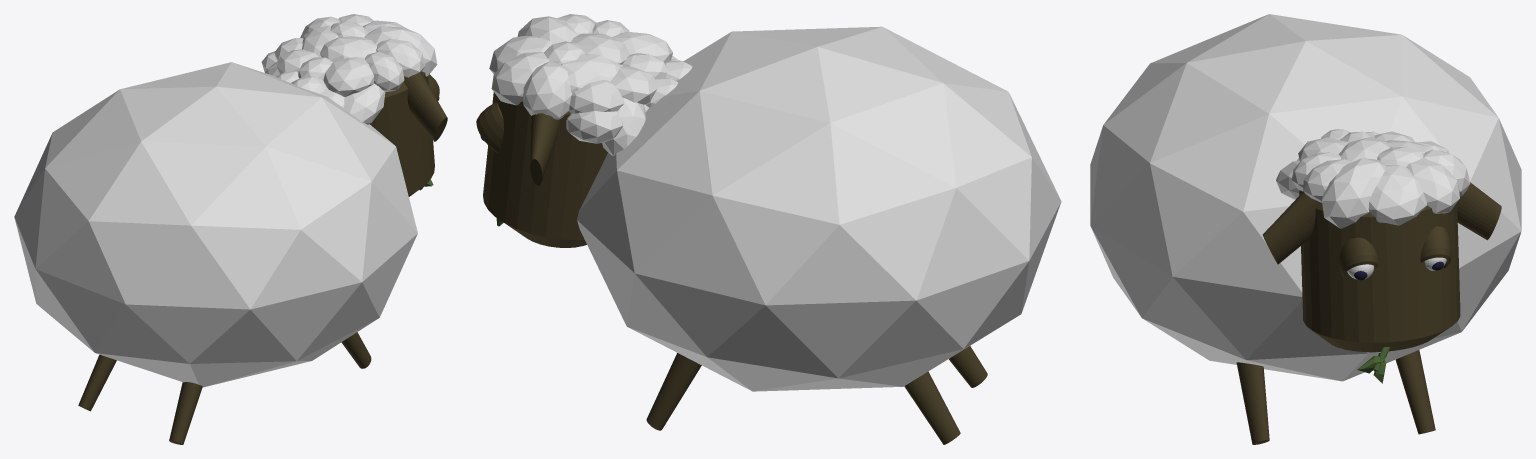
File: moutonGwen4.glb
3 renders of one model, left to right at view 1: azimuth 30°, elevation 25°; view 2: azimuth 150°, elevation 25°; view 3: azimuth 270°, elevation 25°, orthographic. The views are drawn at different scales.
Visible parts, largest first — view 1: Icosphere, Cylinder, Cylinder.001, Icosphere.011, Cylinder.007, Icosphere.003, Icosphere.017, Icosphere.002, Icosphere.007, Icosphere.009, Cylinder.006, Icosphere.016 (+4 smaller); view 2: Icosphere, Cylinder, Icosphere.001, Cylinder.005, Cylinder.006, Icosphere.005, Icosphere.014, Cylinder.002, Icosphere.006, Icosphere.016, Icosphere.010, Icosphere.013 (+8 smaller); view 3: Icosphere, Cylinder, Icosphere.003, Icosphere.004, Cylinder.001, Cylinder.004, Icosphere.005, Cylinder.005, Cylinder.002, Icosphere.002, Torus, Torus.001 (+6 smaller).
Part boxes in pixels (bbox=[...]): Icosphere: bbox=[14, 62, 417, 387]; Cylinder: bbox=[370, 71, 434, 196]; Cylinder.001: bbox=[404, 72, 447, 141]; Icosphere.011: bbox=[323, 57, 373, 96]; Cylinder.007: bbox=[169, 382, 202, 444]; Icosphere.003: bbox=[364, 26, 437, 76]; Icosphere.017: bbox=[343, 83, 385, 124]; Icosphere.002: bbox=[376, 39, 425, 77]; Icosphere.007: bbox=[365, 52, 404, 91]; Icosphere.009: bbox=[320, 36, 377, 61]; Cylinder.006: bbox=[78, 354, 116, 411]; Icosphere.016: bbox=[302, 25, 338, 57]; Icosphere: bbox=[577, 26, 1061, 391]; Cylinder: bbox=[483, 92, 607, 247]; Icosphere.001: bbox=[523, 61, 572, 119]; Cylinder.005: bbox=[646, 353, 701, 430]; Cylinder.006: bbox=[904, 371, 960, 444]; Icosphere.005: bbox=[491, 52, 549, 105]; Icosphere.014: bbox=[566, 111, 622, 143]; Cylinder.002: bbox=[530, 113, 559, 185]; Icosphere.006: bbox=[569, 80, 623, 113]; Icosphere.016: bbox=[561, 54, 622, 93]; Icosphere.010: bbox=[610, 66, 657, 104]; Icosphere.013: bbox=[602, 98, 645, 155]; Icosphere: bbox=[1090, 14, 1521, 381]; Cylinder: bbox=[1299, 190, 1460, 352]; Icosphere.003: bbox=[1322, 158, 1386, 228]; Icosphere.004: bbox=[1368, 165, 1426, 225]; Cylinder.001: bbox=[1262, 191, 1320, 264]; Cylinder.004: bbox=[1236, 362, 1269, 444]; Icosphere.005: bbox=[1406, 158, 1459, 213]; Cylinder.005: bbox=[1395, 350, 1435, 434]; Cylinder.002: bbox=[1457, 182, 1501, 240]; Icosphere.002: bbox=[1303, 159, 1352, 202]; Torus: bbox=[1339, 237, 1378, 276]; Torus.001: bbox=[1420, 226, 1451, 268].
Size of the model in its own units: 3.05 by 2.09 by 2.35.
